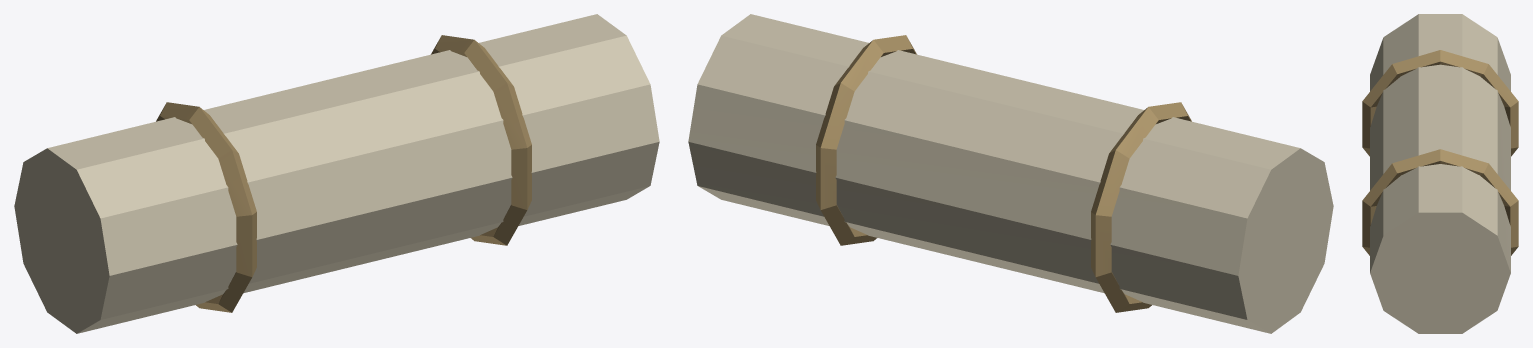
Rendered from CanvasRoll.fbx.
The picture shows the model from 3 angles, left to right: view 1: azimuth 30°, elevation 25°; view 2: azimuth 150°, elevation 25°; view 3: azimuth 270°, elevation 25°; orthographic projection. The views are drawn at different scales.
Parts seen in each view (by area): view 1: CanvasRoll; view 2: CanvasRoll; view 3: CanvasRoll.
Part boxes in pixels (left/top/right/bottom): CanvasRoll: left=14, top=14, right=659, bottom=333; CanvasRoll: left=688, top=14, right=1333, bottom=333; CanvasRoll: left=1362, top=14, right=1518, bottom=333.
Size of the model in its own units: 0.8 by 0.28 by 0.2663.
